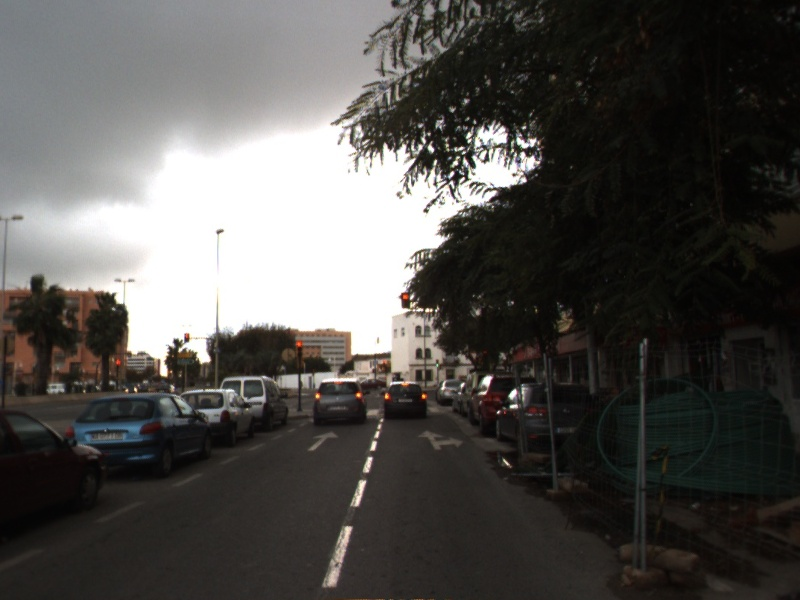STRAIGHT: (306, 430, 340, 452)
STRAIGHT_RIGHT: (416, 428, 465, 451)
